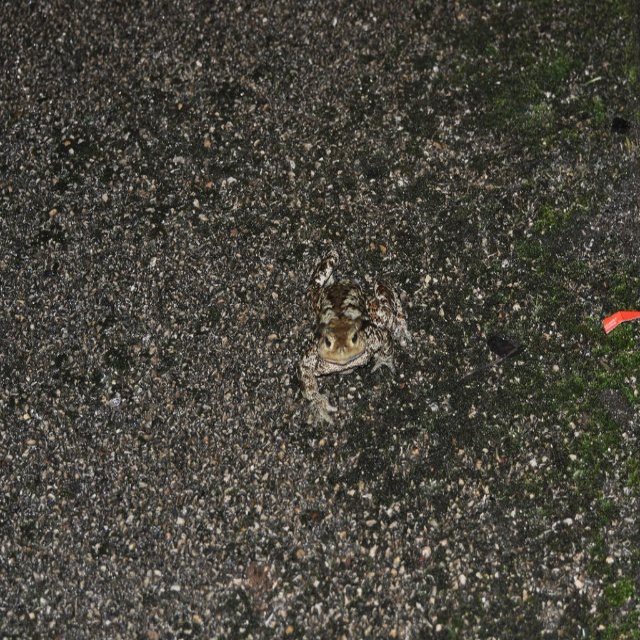Frog: (298, 251, 416, 425)
